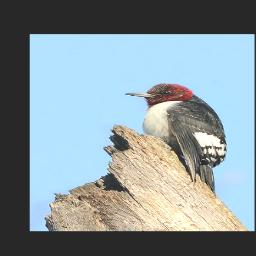Woodpecker: (124, 83, 228, 193)
